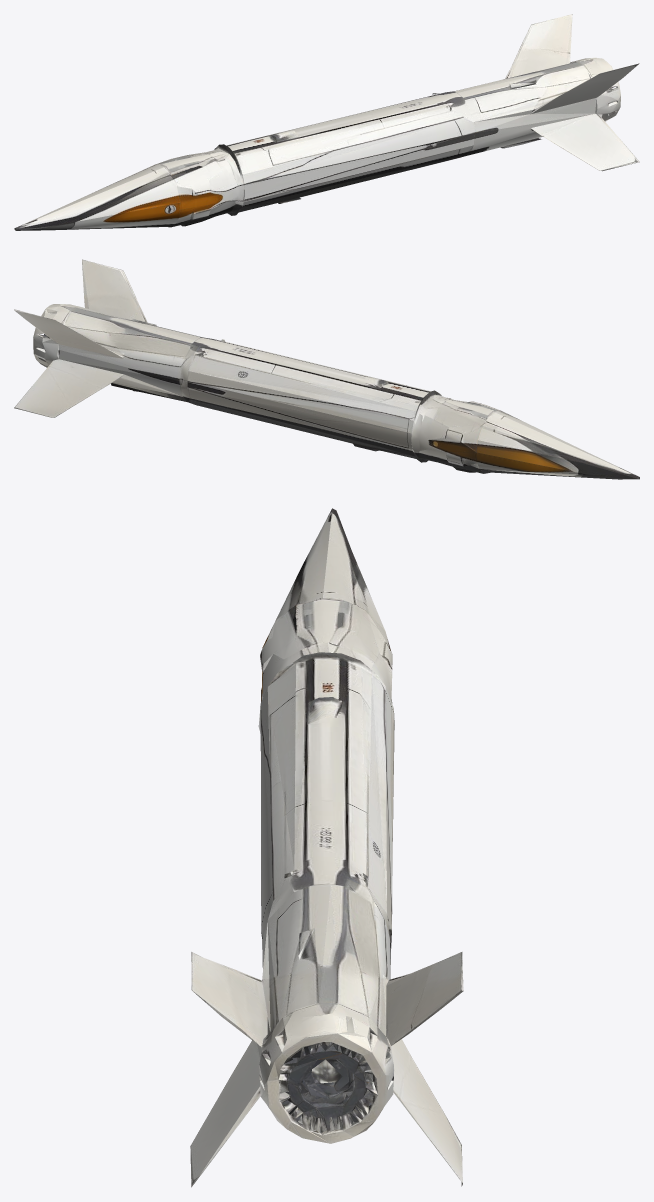
The model's file is fx-swarm-missile.glb.
3 renders of one model, top to bottom at view 1: azimuth 30°, elevation 25°; view 2: azimuth 150°, elevation 25°; view 3: azimuth 270°, elevation 25°, orthographic. The views are drawn at different scales.
Bounding box in the file's own units: 1.9 × 0.3031 × 0.3799.
1 material, 1 textured.
